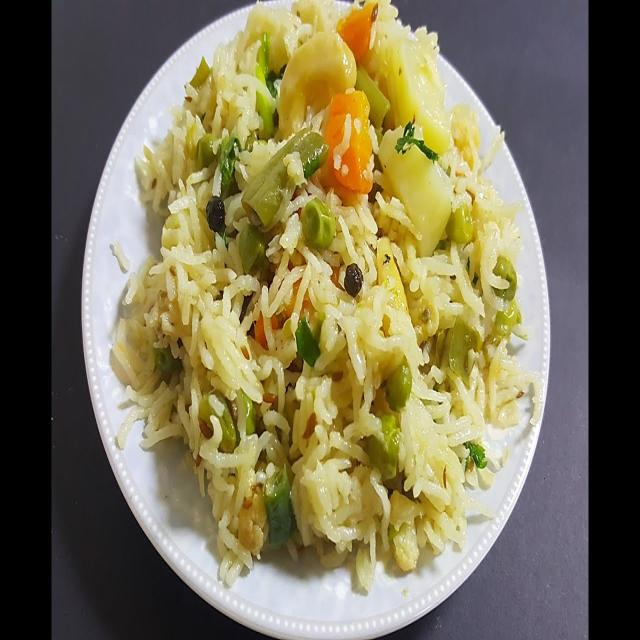veg palav: (83, 0, 552, 621)
